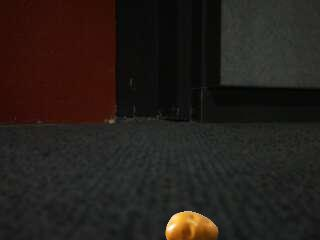Potato: (163, 211, 220, 240)
